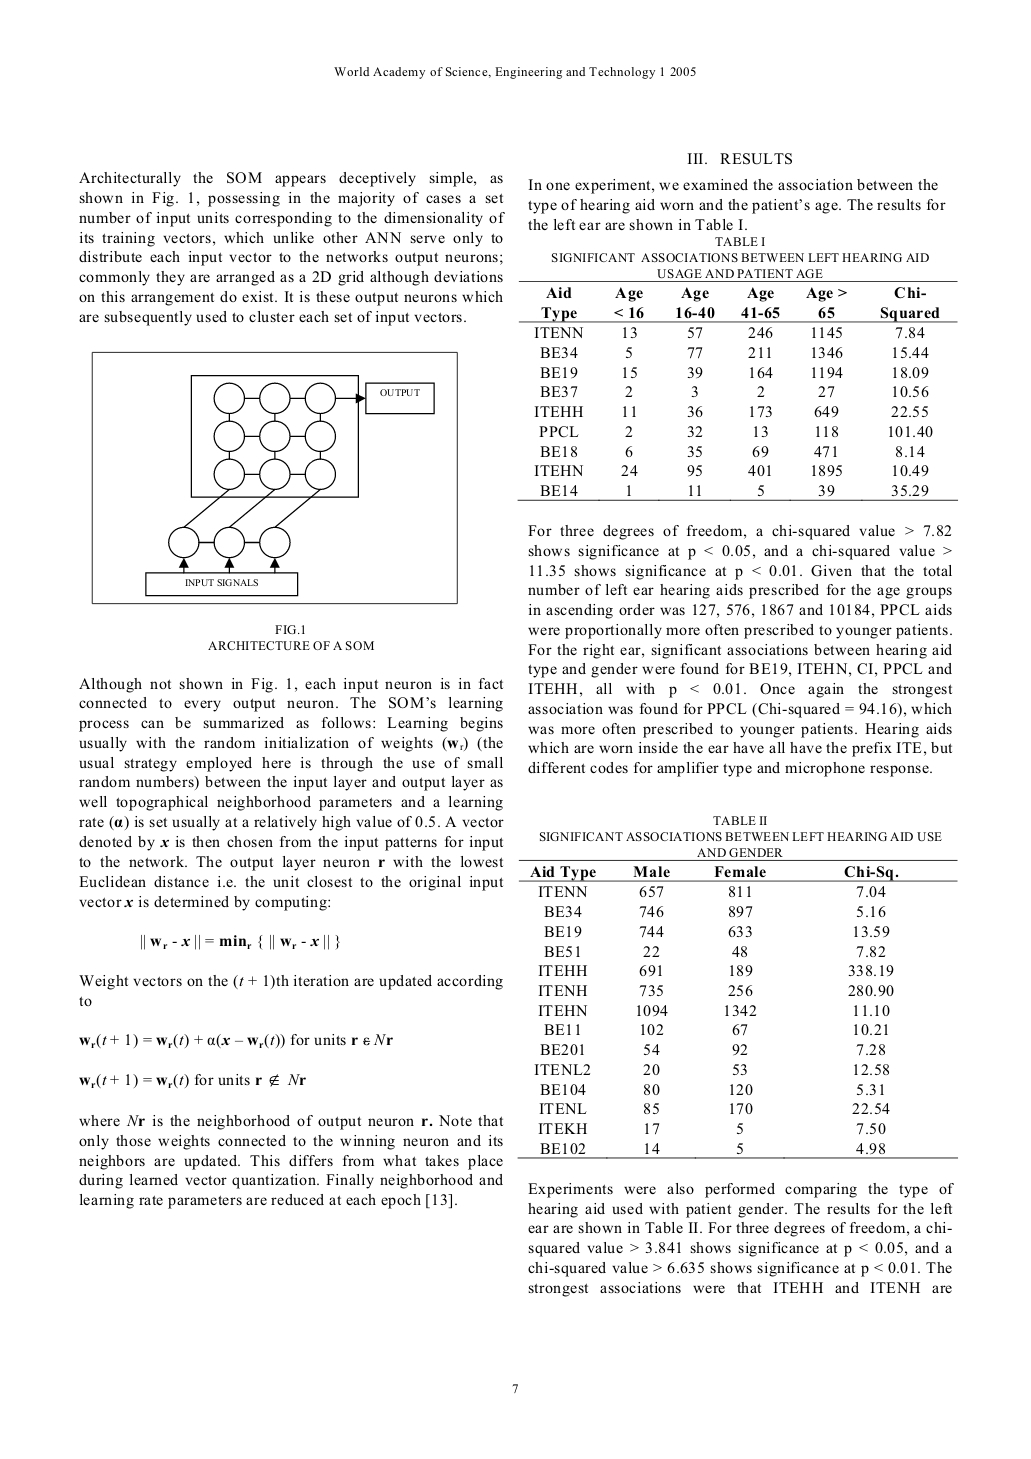Table: (517, 859, 957, 1158), (517, 281, 957, 500)
figure: (91, 350, 457, 605)
formula: (79, 1032, 392, 1049), (79, 1072, 305, 1089), (141, 933, 339, 950)
